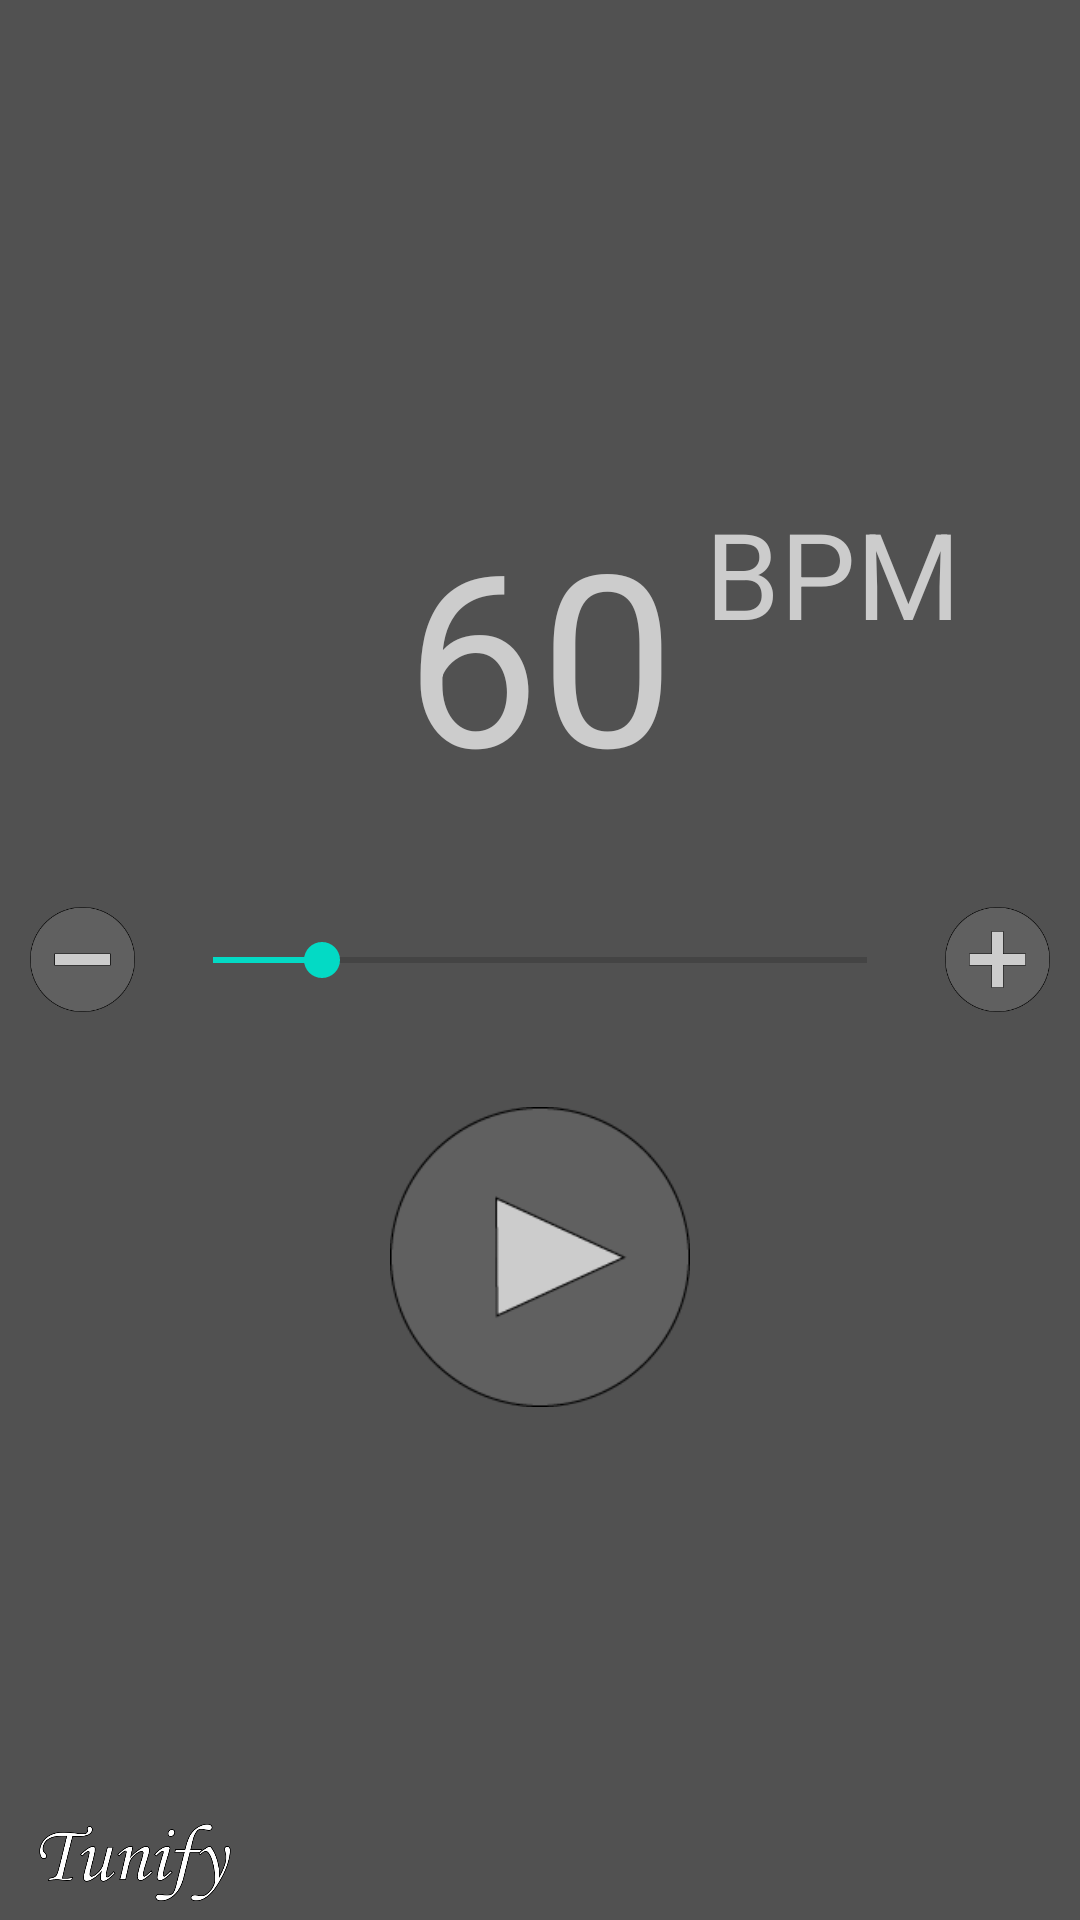

Named icons in this screenshot (1080w x 1920h) and their centers, (x,y):
minus: (82,959)
play: (540,1257)
plus: (997,959)
